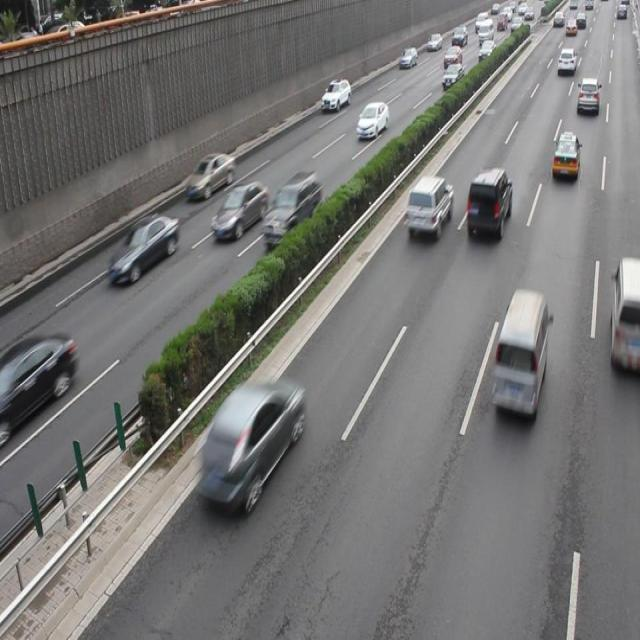car: (197, 376, 303, 516), (1, 331, 77, 437), (106, 210, 180, 288), (261, 170, 322, 247), (210, 180, 268, 243), (465, 166, 511, 242), (404, 174, 452, 238), (184, 151, 234, 201), (551, 130, 580, 180), (356, 101, 388, 140), (319, 77, 350, 113)
truck: (490, 288, 548, 417), (608, 256, 640, 374)
